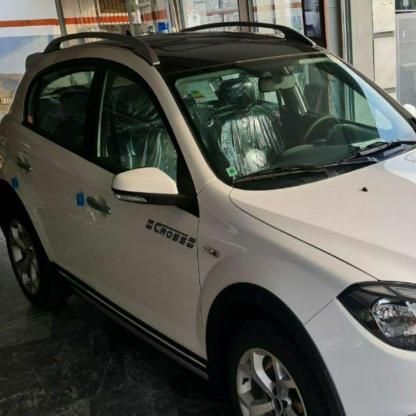Car: (0, 26, 416, 416)
